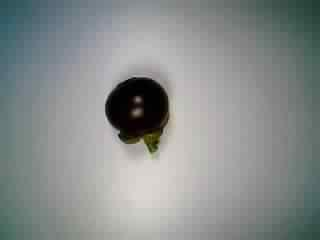mangosteen: (96, 75, 178, 160)
